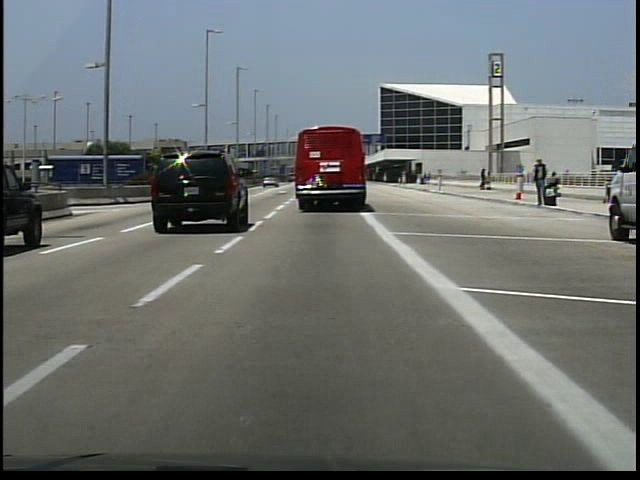person: (529, 154, 553, 212), (541, 168, 564, 200)
